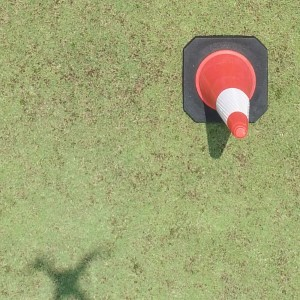traffic cone: (182, 35, 268, 138)
